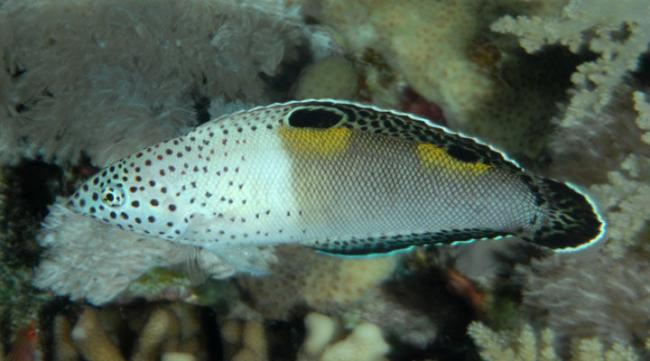fish: (66, 98, 605, 257)
